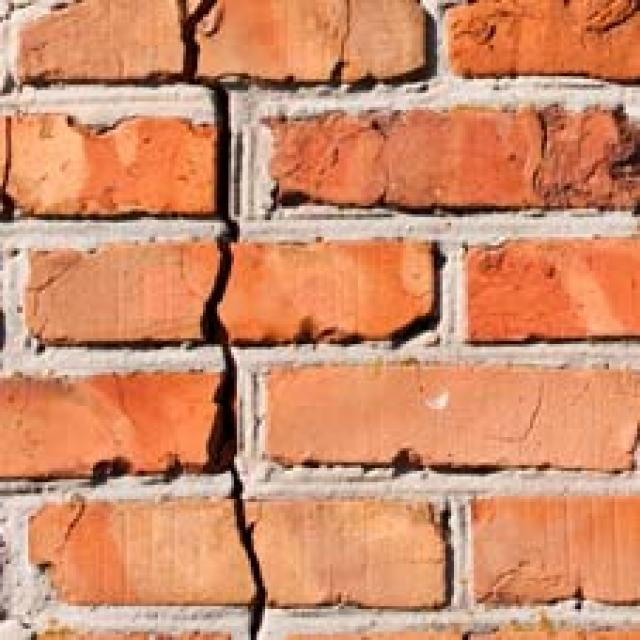Crack: (113, 0, 366, 640)
